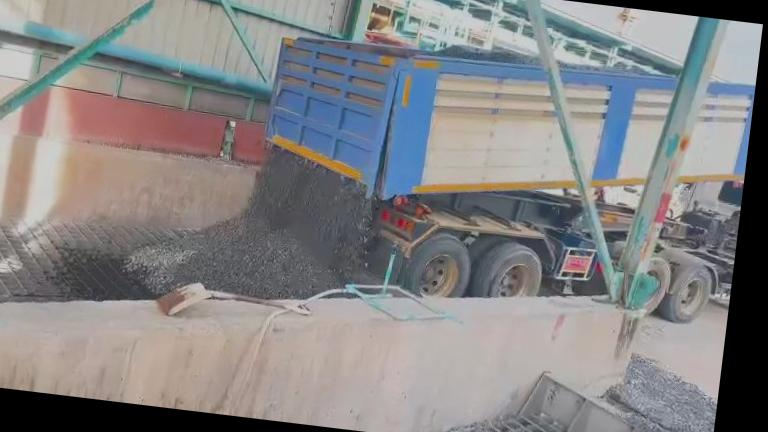gravel: (124, 147, 371, 297), (619, 356, 716, 432), (430, 45, 540, 66)
